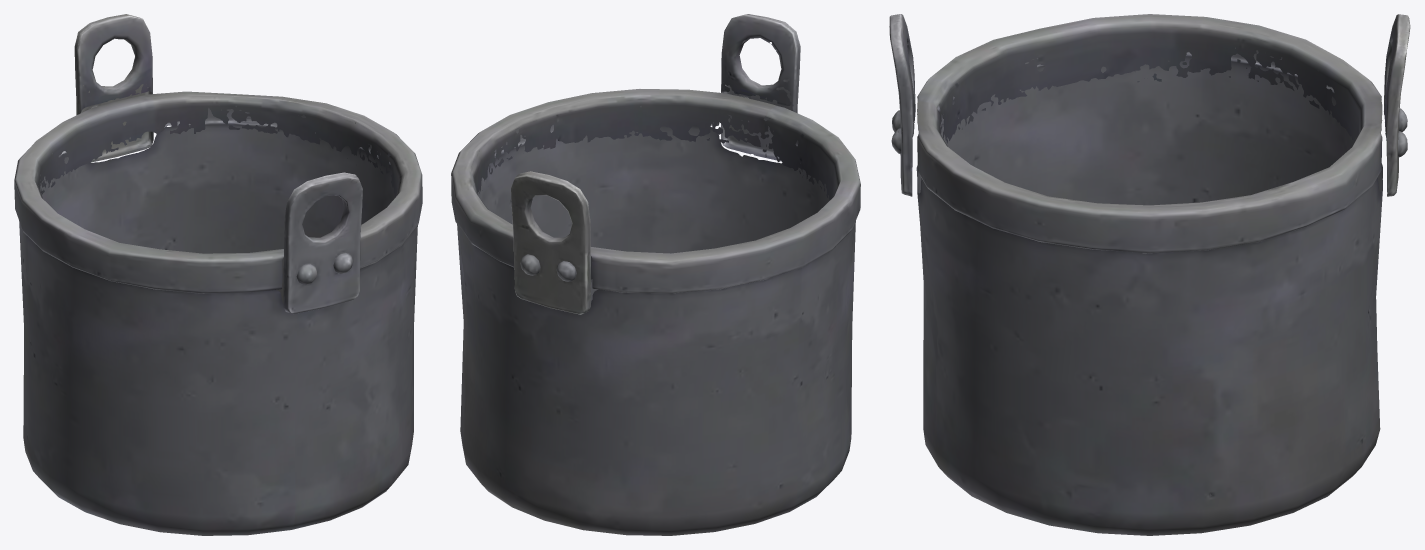
3 views of the same model, side by side, from view 1: azimuth 30°, elevation 25°; view 2: azimuth 150°, elevation 25°; view 3: azimuth 270°, elevation 25° (orthographic). The views are drawn at different scales.
Parts seen in each view (by area): view 1: SM_Cookware_CastIron_Pot_Large_01_LOD0; view 2: SM_Cookware_CastIron_Pot_Large_01_LOD0; view 3: SM_Cookware_CastIron_Pot_Large_01_LOD0.
Part boxes in pixels (box(x1,y1,x2,y2)): SM_Cookware_CastIron_Pot_Large_01_LOD0: box(14, 14, 422, 535); SM_Cookware_CastIron_Pot_Large_01_LOD0: box(451, 14, 860, 535); SM_Cookware_CastIron_Pot_Large_01_LOD0: box(889, 14, 1410, 535).
Size of the model in its own units: 0.509 by 0.5123 by 0.5546.
Materials: 1 (1 with a texture image).
